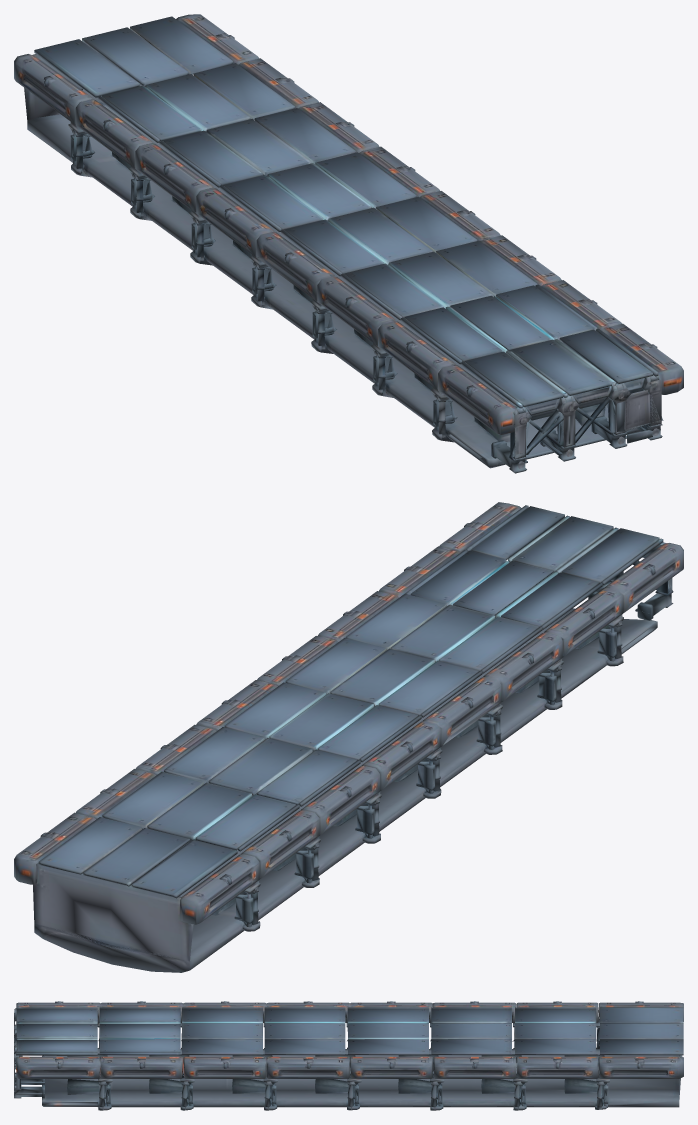
Rendered from selected.fbx.
The picture shows the model from 3 angles, top to bottom: view 1: azimuth 30°, elevation 25°; view 2: azimuth 150°, elevation 25°; view 3: azimuth 270°, elevation 25°; orthographic projection. The views are drawn at different scales.
Visible parts, largest first — view 1: tripo_node_943087c8-2452-410b-a252-fbb5ed3d8f01; view 2: tripo_node_943087c8-2452-410b-a252-fbb5ed3d8f01; view 3: tripo_node_943087c8-2452-410b-a252-fbb5ed3d8f01.
Part boxes in pixels (x1,y1,x2,y2): tripo_node_943087c8-2452-410b-a252-fbb5ed3d8f01: [14, 14, 683, 473]; tripo_node_943087c8-2452-410b-a252-fbb5ed3d8f01: [14, 502, 683, 972]; tripo_node_943087c8-2452-410b-a252-fbb5ed3d8f01: [14, 1001, 683, 1110].
Size of the model in its own units: 0.2231 by 0.1021 by 0.999.
1 material, 1 textured.
